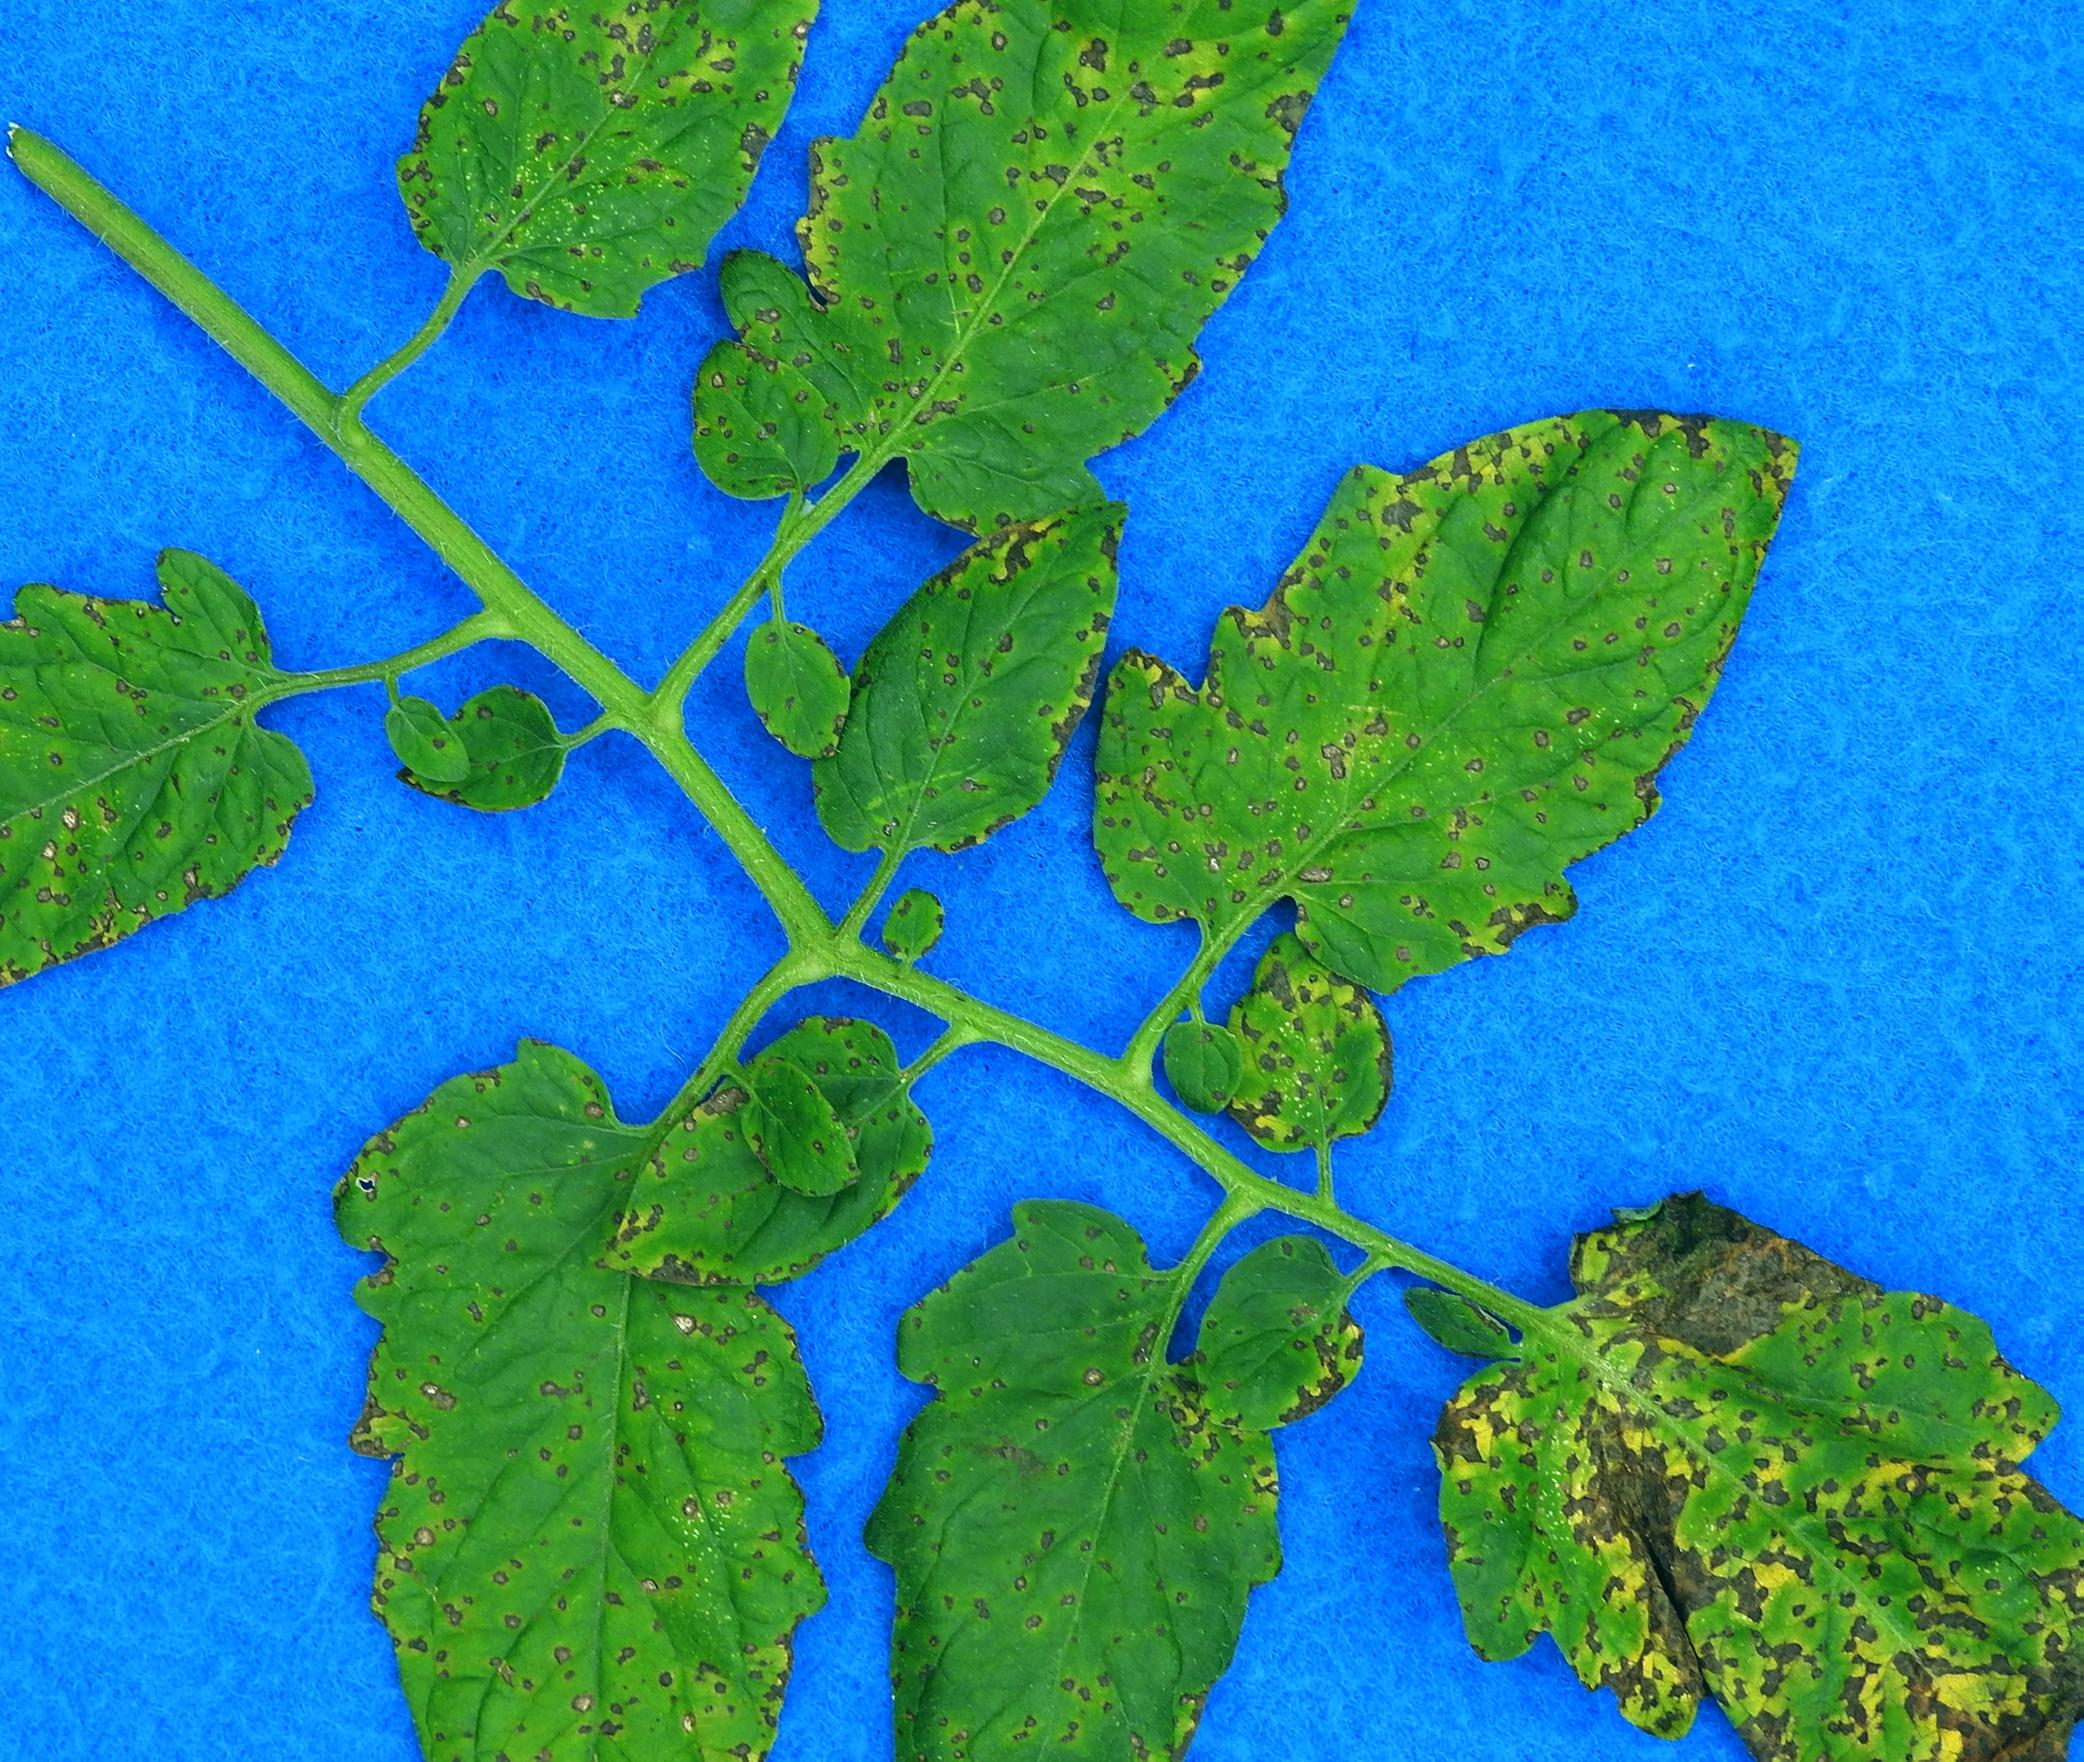Tomato Septoria leaf spot: (329, 907, 860, 1762), (1087, 385, 1799, 1003), (1407, 1147, 2084, 1762), (733, 0, 1381, 580), (827, 1190, 1437, 1762), (0, 510, 330, 1080), (381, 0, 869, 362), (818, 500, 1143, 878), (594, 1007, 990, 1304)
